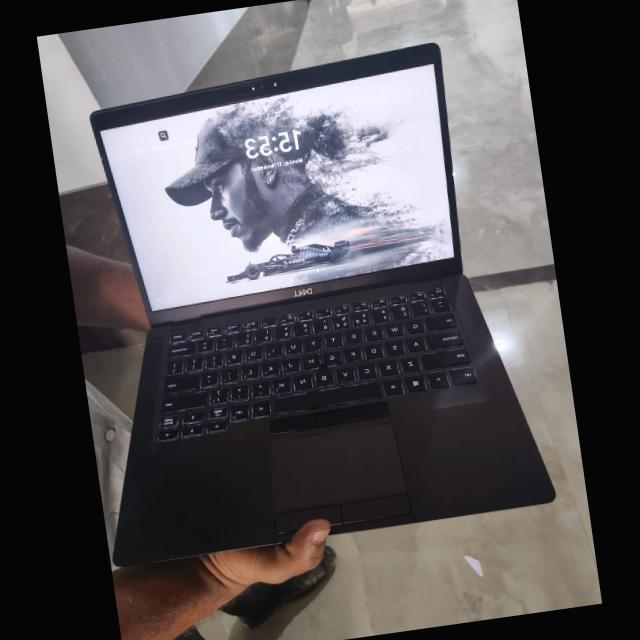laptop: (46, 32, 560, 573)
